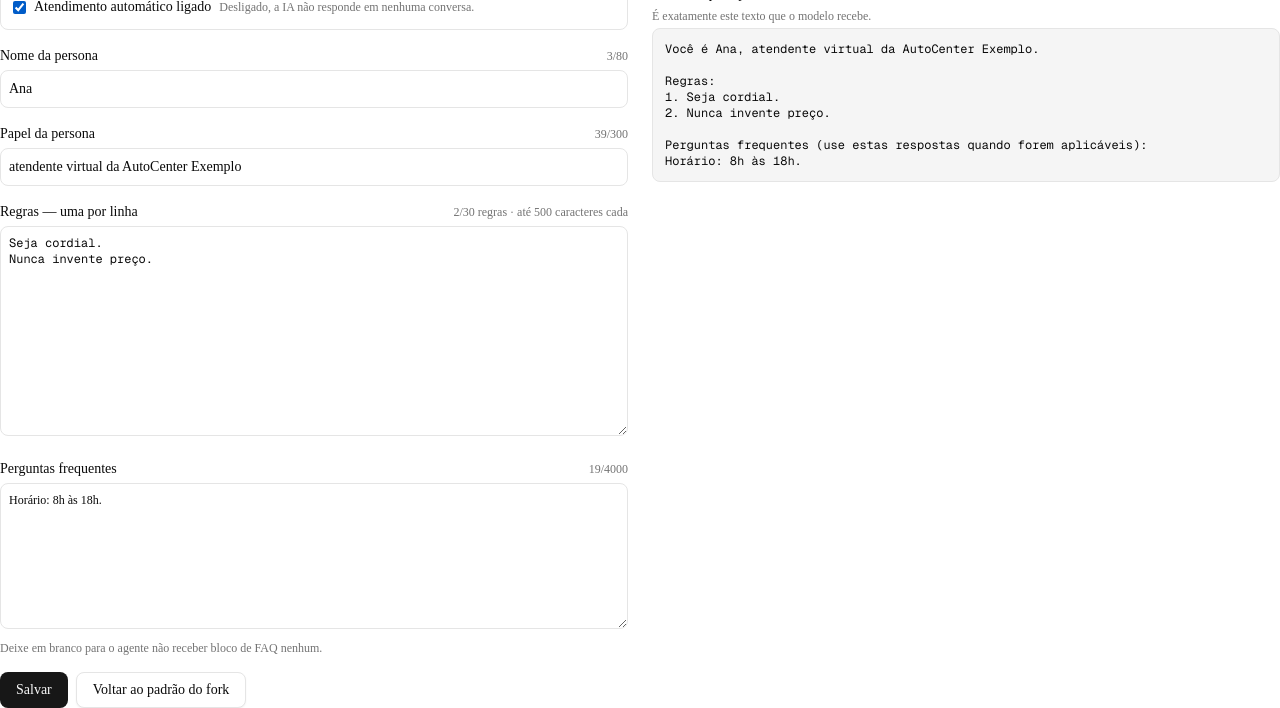
Test: restaurar padrão passa por diálogo, não por window.confirm › confirmar restaura de verdade
This screenshot has width=1280, height=708.
Click the button "Voltar ao padrão do fork": [161, 690] box top-left (76, 672), bottom-right (246, 707)
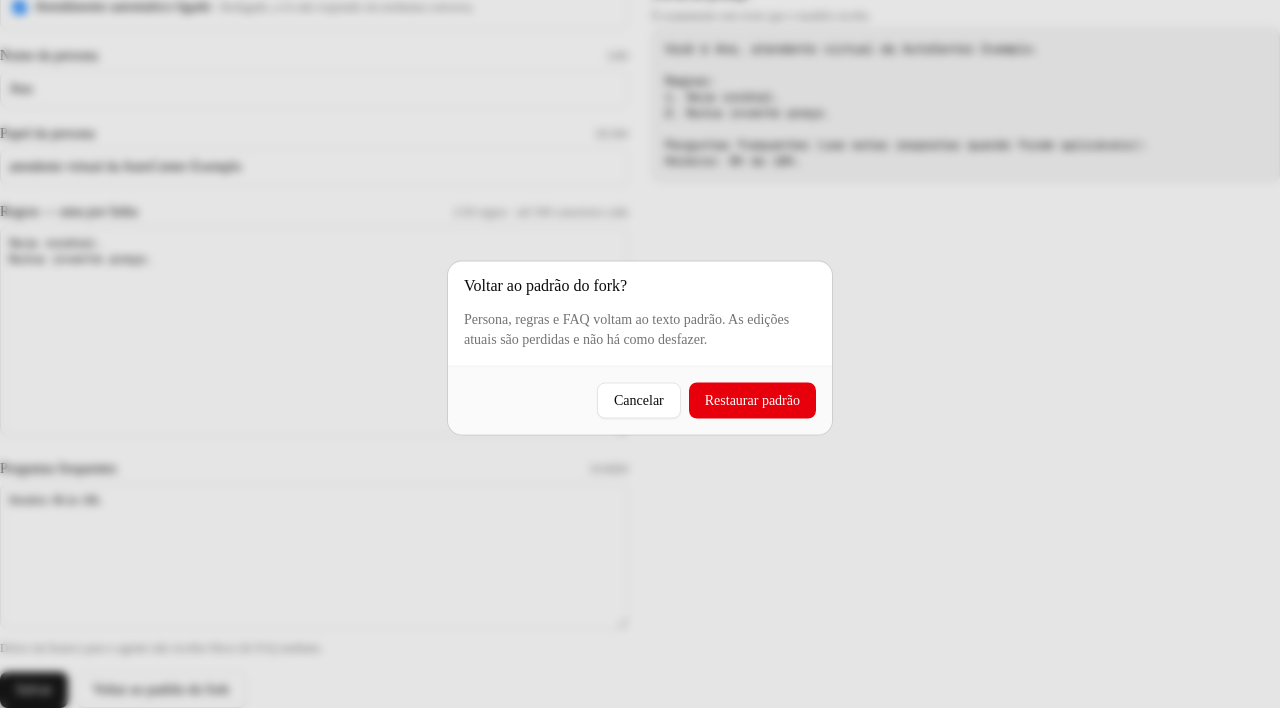
Check: the dialog is shown, box top-left (448, 262), bottom-right (832, 434)
Click the button "Restaurar padrão": [752, 400] box top-left (689, 382), bottom-right (816, 418)
(page scrolled)
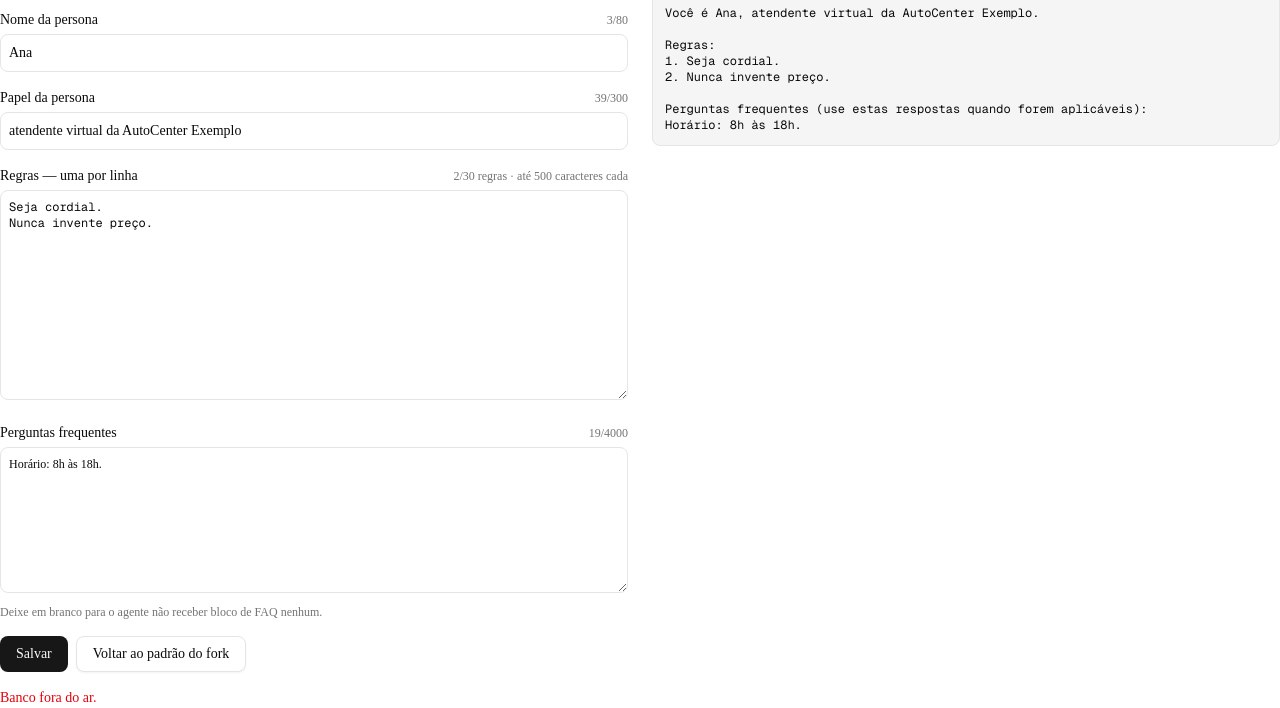
Check: the message reads "Banco fora do ar.", box top-left (0, 690), bottom-right (96, 705)
